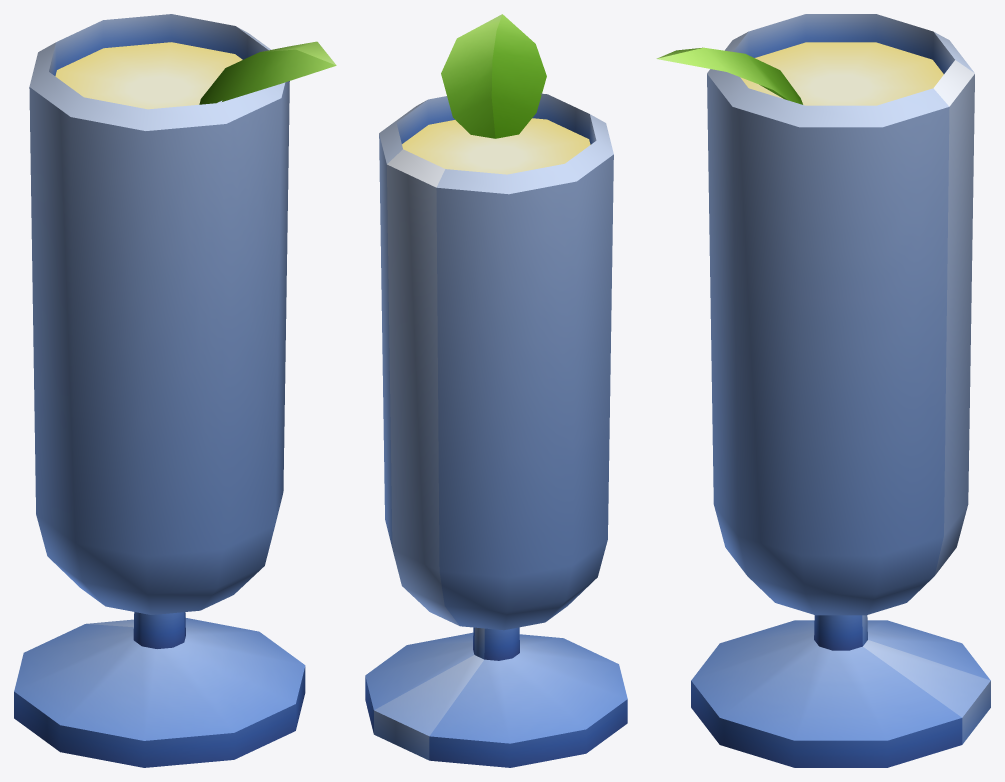
Rendered from m_Cocktail08.fbx.
3 renders of one model, left to right at view 1: azimuth 30°, elevation 25°; view 2: azimuth 150°, elevation 25°; view 3: azimuth 270°, elevation 25°, orthographic. The views are drawn at different scales.
Visible parts, largest first — view 1: m_Cocktail08; view 2: m_Cocktail08; view 3: m_Cocktail08.
Part boxes in pixels (x1,y1,x2,y2): m_Cocktail08: [14, 14, 336, 767]; m_Cocktail08: [365, 14, 627, 767]; m_Cocktail08: [656, 14, 990, 767].
Bounding box in the file's own units: 9.51 × 25.53 × 11.17.
